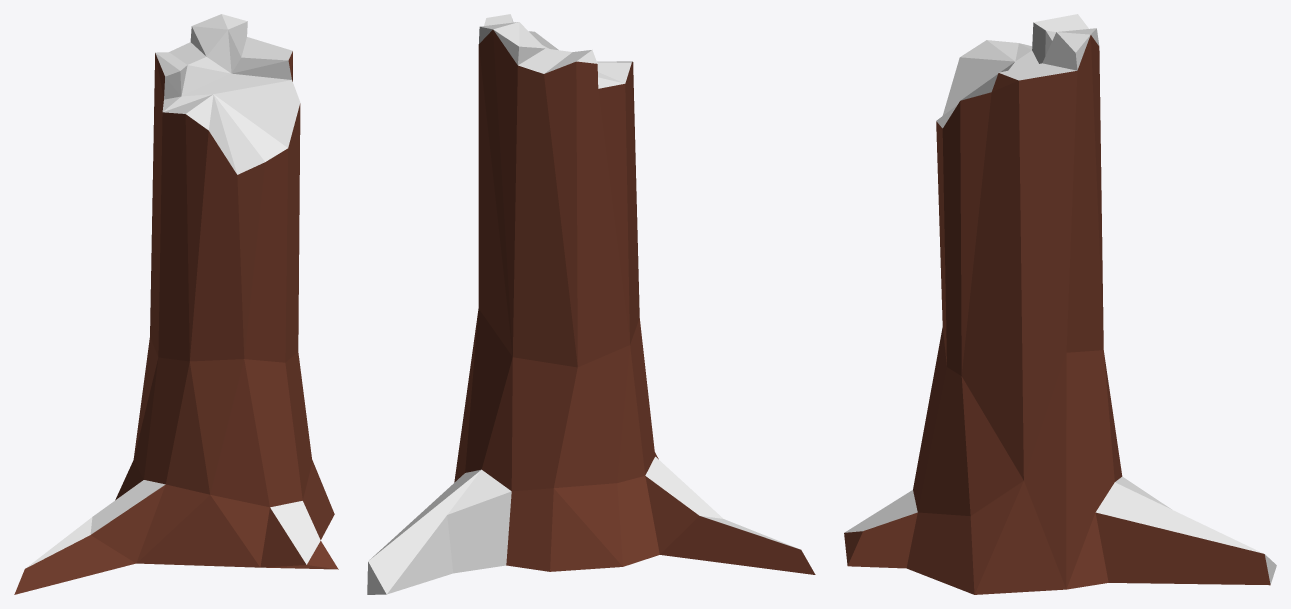
The model's file is pine_trunk_type_8_extra_LOD2.fbx.
3 renders of one model, left to right at view 1: azimuth 30°, elevation 25°; view 2: azimuth 150°, elevation 25°; view 3: azimuth 270°, elevation 25°, orthographic. The views are drawn at different scales.
Visible parts, largest first — view 1: pt_type_8.001; view 2: pt_type_8.001; view 3: pt_type_8.001.
Boxes of the visible parts, x1,y1,x2,y2 form: pt_type_8.001: [14, 14, 338, 594]; pt_type_8.001: [367, 14, 815, 594]; pt_type_8.001: [844, 14, 1276, 594].
Size of the model in its own units: 263 by 386 by 283.
